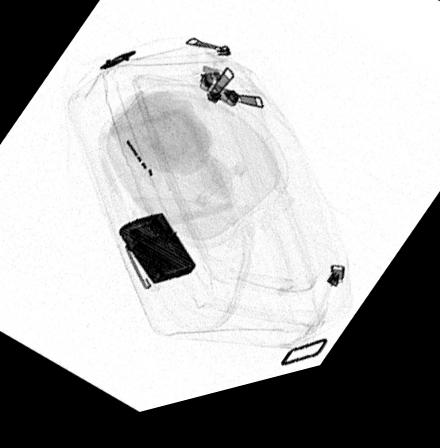Lighter: (116, 221, 195, 292)
